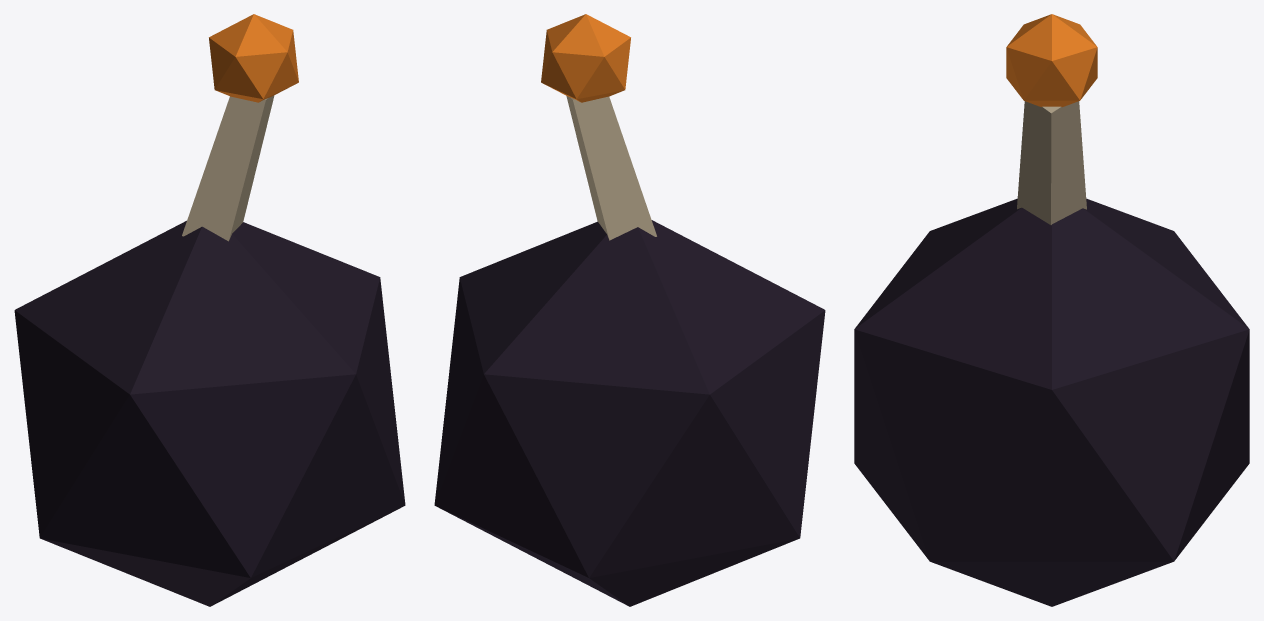
The model's file is gear_bomb.glb.
3 renders of one model, left to right at view 1: azimuth 30°, elevation 25°; view 2: azimuth 150°, elevation 25°; view 3: azimuth 270°, elevation 25°, orthographic. The views are drawn at different scales.
Parts seen in each view (by area): view 1: gear_bomb; view 2: gear_bomb; view 3: gear_bomb.
Part boxes in pixels (box(x1,y1,x2,y2)): gear_bomb: box(14, 14, 405, 606); gear_bomb: box(434, 14, 825, 606); gear_bomb: box(854, 14, 1249, 606).
Size of the model in its own units: 0.1395 by 0.228 by 0.1327.
